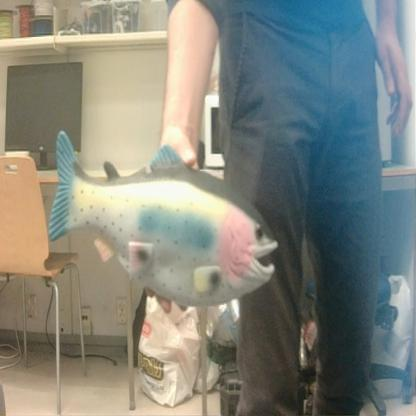rubberfish: (46, 127, 281, 313)
